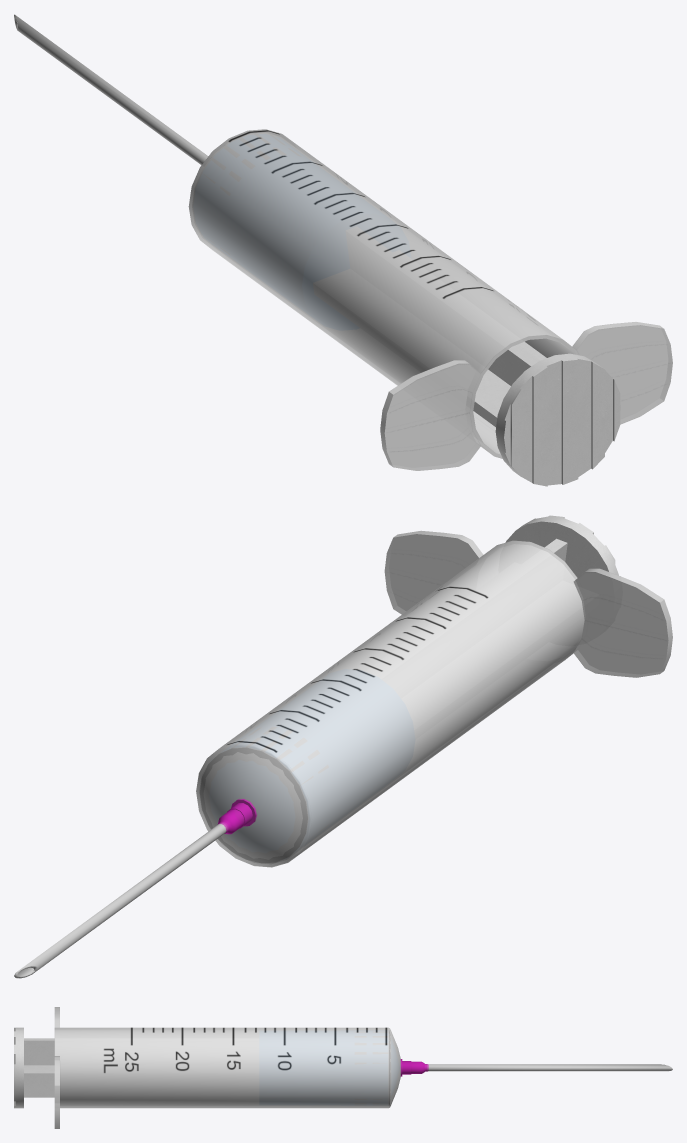
The picture shows the model from 3 angles, top to bottom: view 1: azimuth 30°, elevation 25°; view 2: azimuth 150°, elevation 25°; view 3: azimuth 270°, elevation 25°; orthographic projection. The views are drawn at different scales.
Parts seen in each view (by area): view 1: SM_针管_针筒, SM_针管_推管; view 2: SM_针管_针筒, SM_针管_推管; view 3: SM_针管_针筒, SM_针管_推管.
Part boxes in pixels (box(x1,y1,x2,y2)): SM_针管_针筒: box(14, 14, 672, 470); SM_针管_推管: box(473, 341, 620, 486); SM_针管_针筒: box(14, 530, 672, 978); SM_针管_推管: box(200, 515, 618, 862); SM_针管_针筒: box(54, 1007, 672, 1128); SM_针管_推管: box(14, 1027, 389, 1108).
Bounding box in the file's own units: 22.18 × 9.1 × 73.86.
